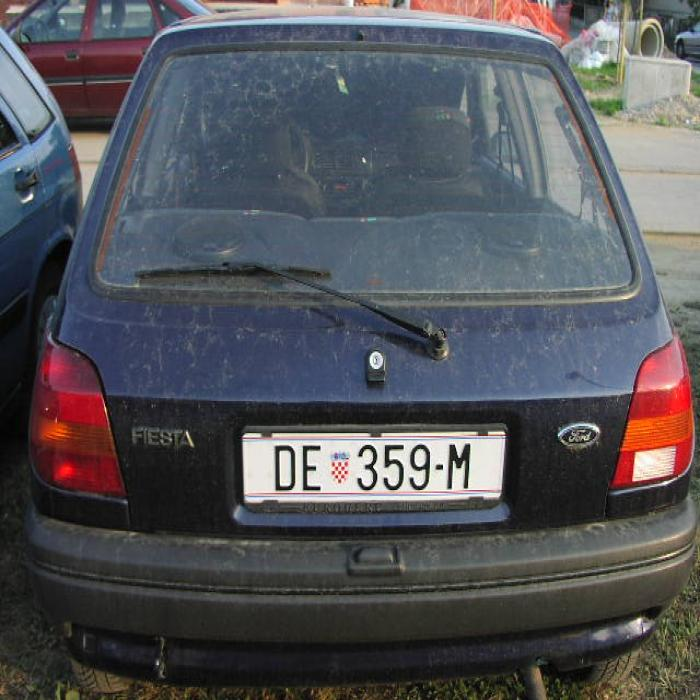number_plate: (245, 436, 499, 493)
